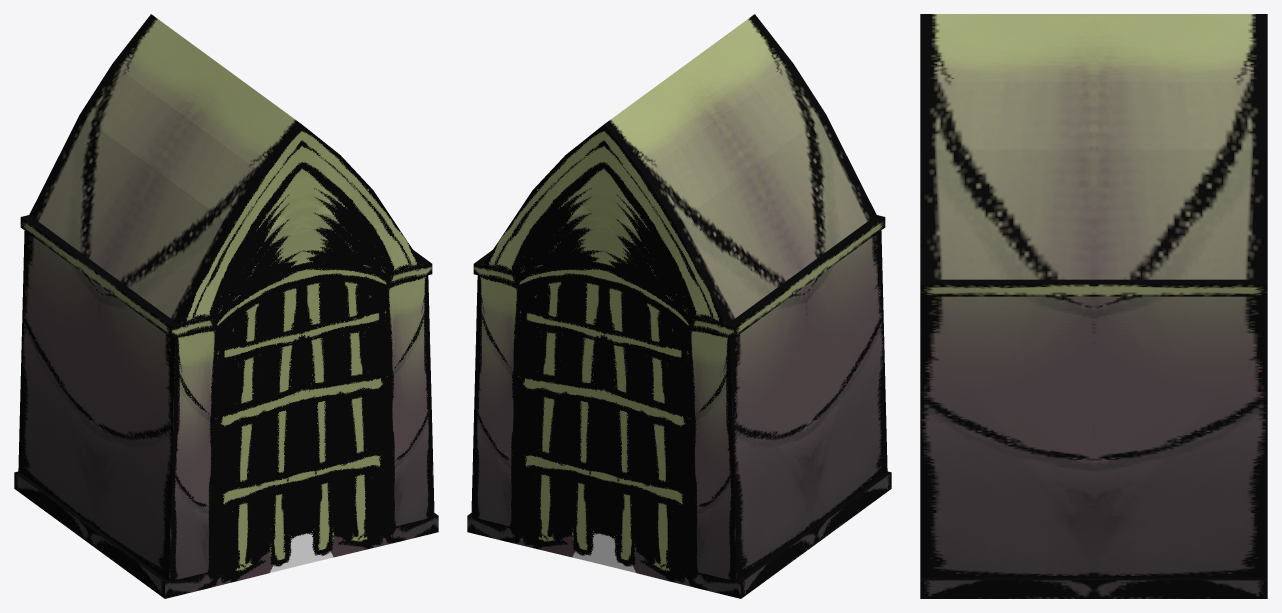
Rendered from PEURTA.fbx.
3 views of the same model, side by side, from view 1: azimuth 30°, elevation 25°; view 2: azimuth 150°, elevation 25°; view 3: azimuth 270°, elevation 25° (orthographic). The views are drawn at different scales.
Parts seen in each view (by area): view 1: Cube.007; view 2: Cube.007; view 3: Cube.007.
Part boxes in pixels (x1,y1,x2,y2): Cube.007: (14, 14, 438, 598); Cube.007: (467, 14, 891, 598); Cube.007: (920, 14, 1267, 598).
Size of the model in its own units: 210 by 323 by 200.
